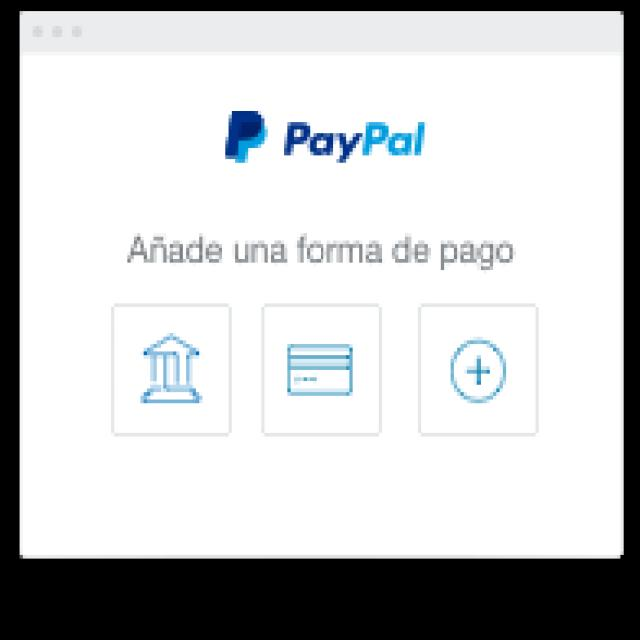paypal: (225, 111, 268, 163)
paypal_txt: (284, 122, 425, 164)
